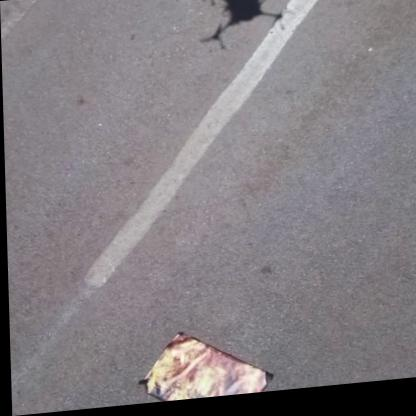fire-poster: (133, 326, 272, 407)
